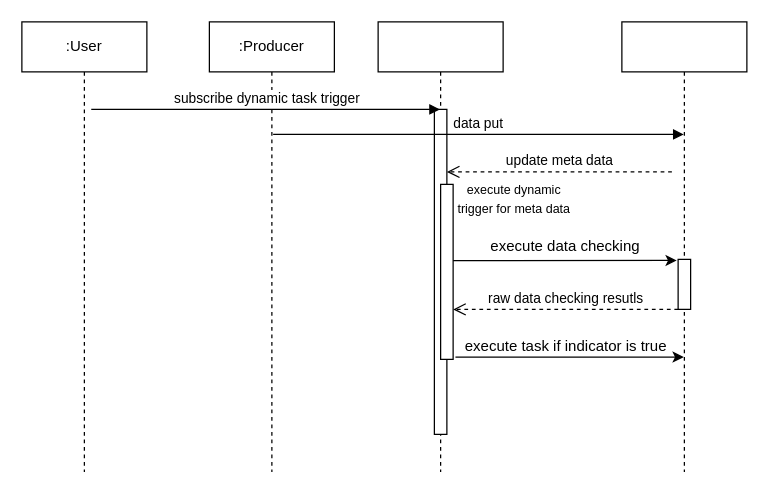
Some shapes in this 769 by 494 pixel diagram are drawn without their labels. The shapes that lost their labels are listed below. From the top down, each one's centre as x and y in pixels, then its label:
[440,246]: :MetaDataService
[684,246]: :RawDataService
